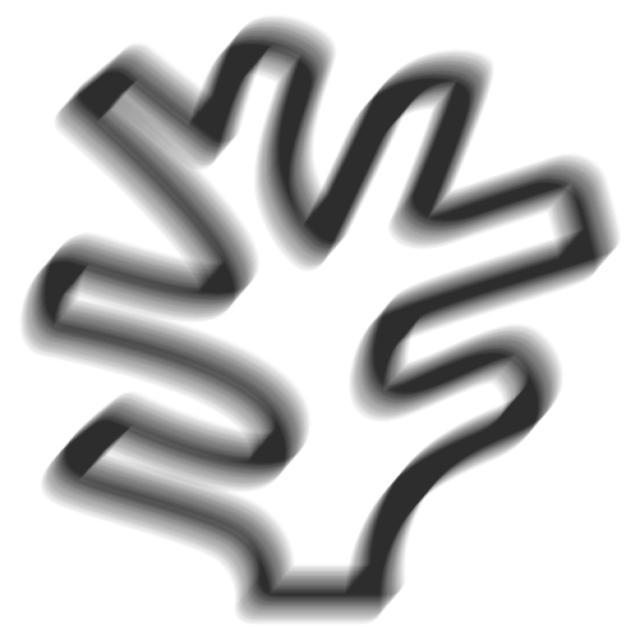coral: (14, 15, 629, 637)
